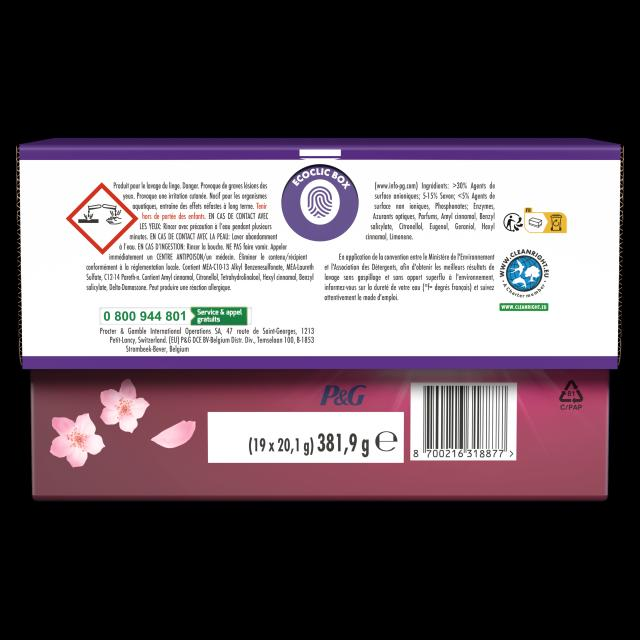GHS_Symbol_CORROSION: (65, 182, 139, 255)
